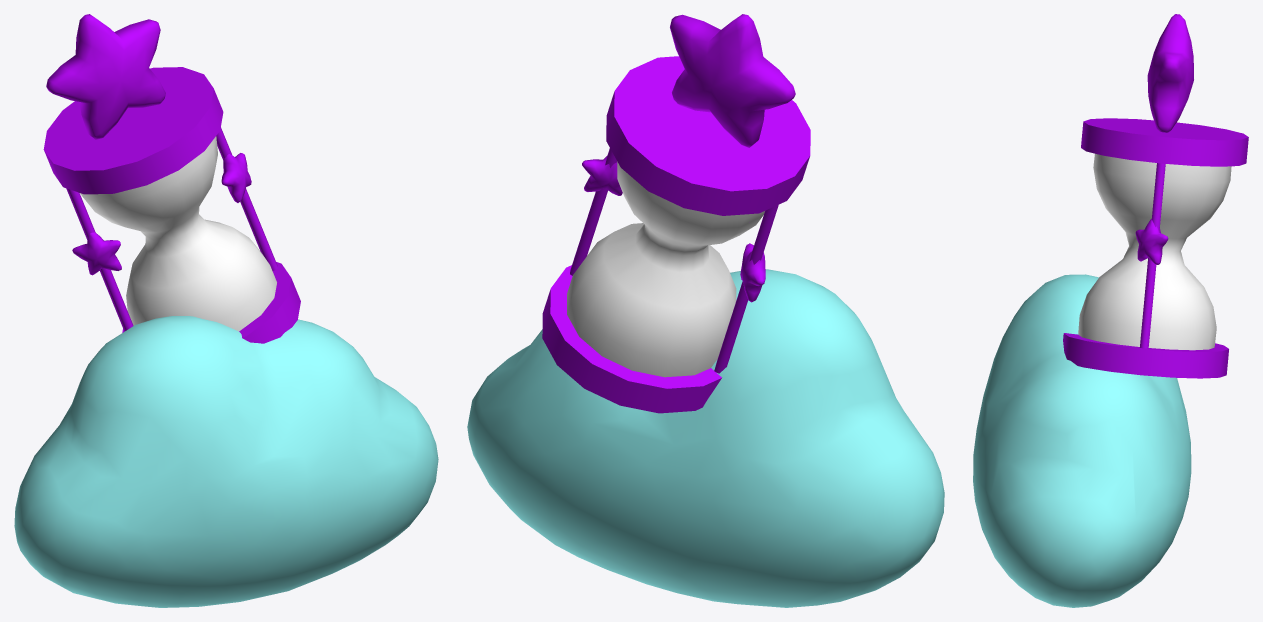
The model's file is Item_Reduce High.FBX.
3 views of the same model, side by side, from view 1: azimuth 30°, elevation 25°; view 2: azimuth 150°, elevation 25°; view 3: azimuth 270°, elevation 25° (orthographic). The views are drawn at different scales.
Parts seen in each view (by area): view 1: Item_Reduce high; view 2: Item_Reduce high; view 3: Item_Reduce high.
Part boxes in pixels (x1,y1,x2,y2): Item_Reduce high: [14, 14, 438, 607]; Item_Reduce high: [467, 14, 944, 607]; Item_Reduce high: [973, 14, 1248, 607].
Size of the model in its own units: 114 by 151 by 73.39.
